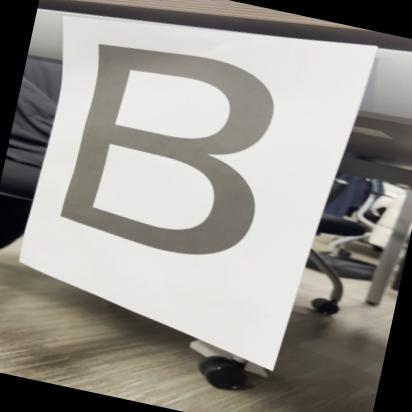seat: (31, 24, 326, 285)
